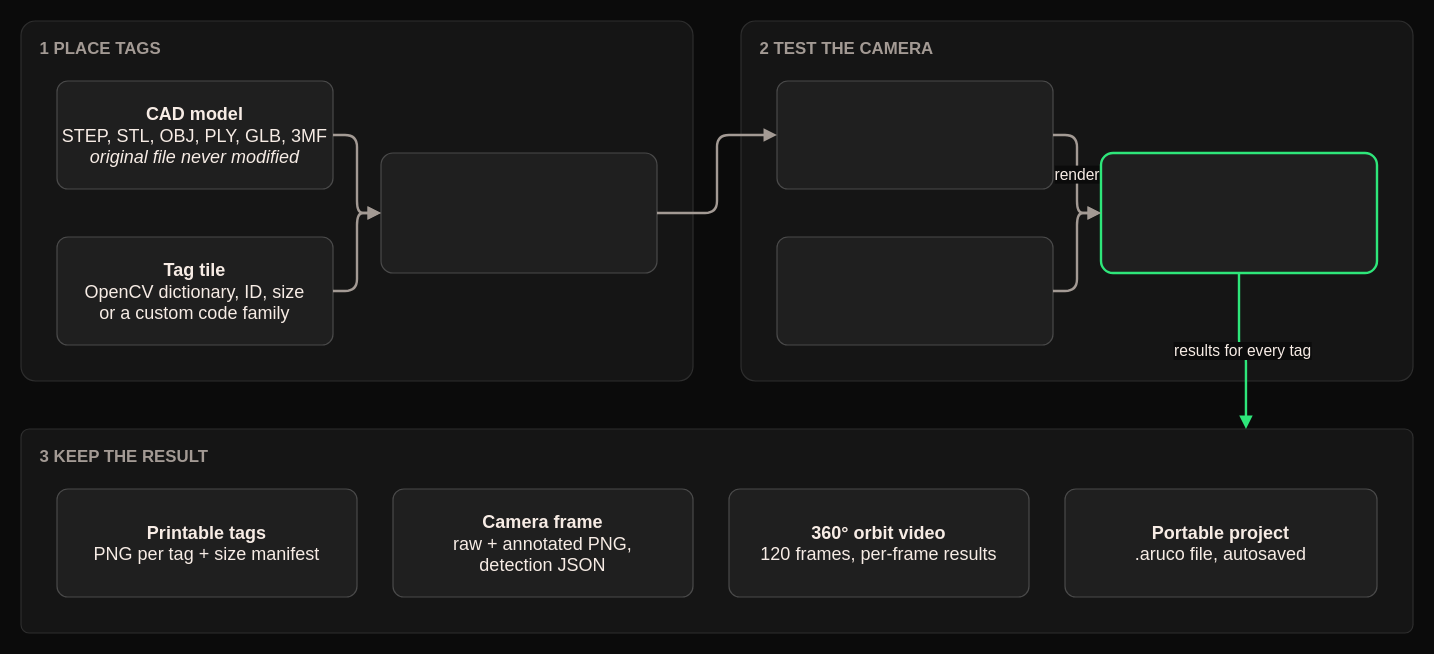
Some shapes in this 1434 by 654 pixel diagram are drawn without their labels. The shapes that lost their labels are listed below. From the top down, each one's centre as x and y in pixels, then its label:
the point at 914,134: Virtual camera orbit, distance, field of view, blur, noise, exposure
the point at 518,212: Drag onto a face snaps to the surface, move, resize, undo / redo
the point at 1238,212: ArUco detector reads only the rendered pixels, never the placement table
the point at 914,290: Move a part rotate a component; its tags follow
